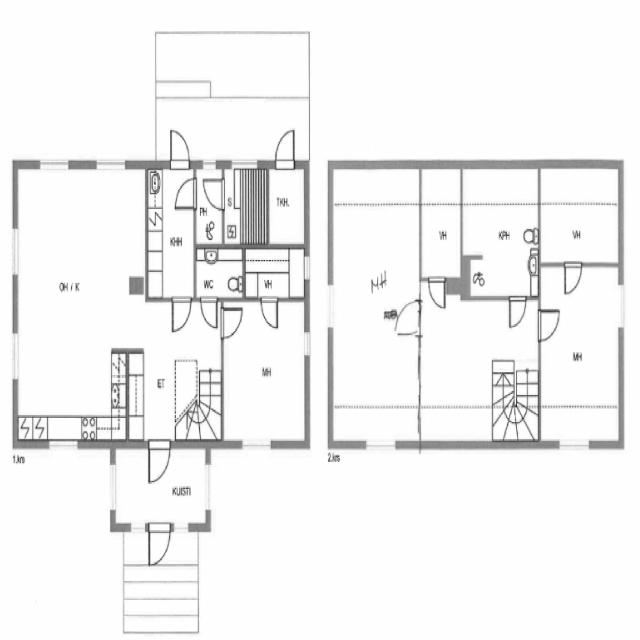door: (396, 301, 422, 335), (149, 441, 170, 483), (149, 524, 169, 565), (170, 132, 188, 169), (276, 132, 294, 169), (172, 297, 191, 332), (220, 308, 242, 338), (203, 179, 224, 209), (538, 310, 559, 340), (175, 179, 196, 208), (509, 295, 526, 327), (565, 262, 581, 294), (262, 298, 278, 328), (429, 278, 444, 308), (202, 298, 216, 326)
